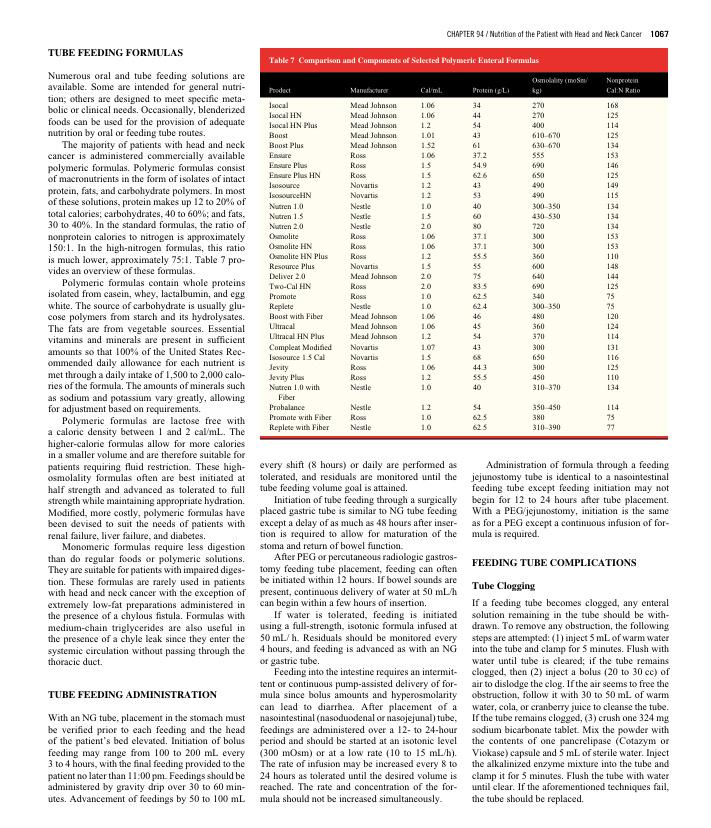caption: (267, 56, 540, 66)
header: (446, 29, 643, 38)
section-heading: (471, 557, 637, 568), (47, 690, 218, 700), (47, 48, 185, 57)
sub-section-heading: (471, 580, 536, 592)
table: (260, 72, 668, 438)
text: (47, 70, 247, 666), (258, 459, 459, 805), (470, 597, 670, 806), (46, 712, 247, 805), (470, 459, 670, 540)
